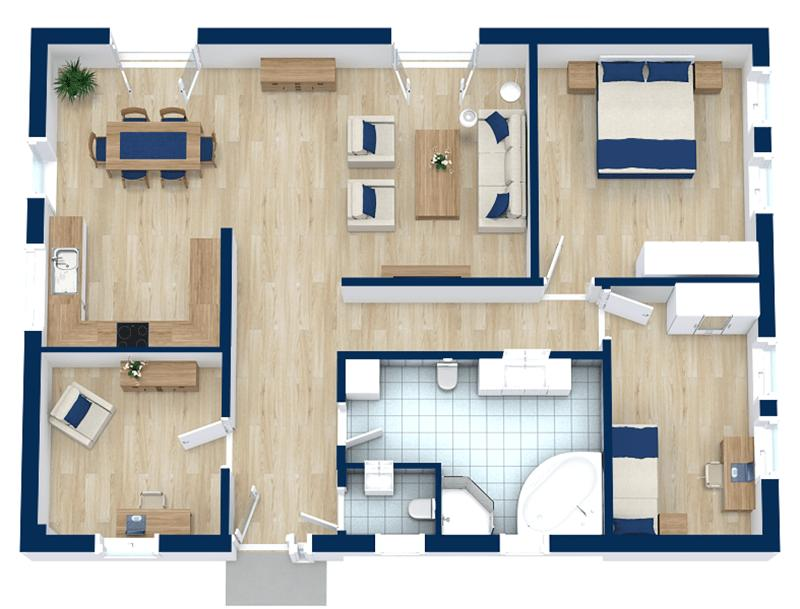room: (38, 33, 535, 282), (533, 38, 761, 277), (341, 351, 603, 542), (606, 280, 771, 538), (30, 347, 224, 544)
